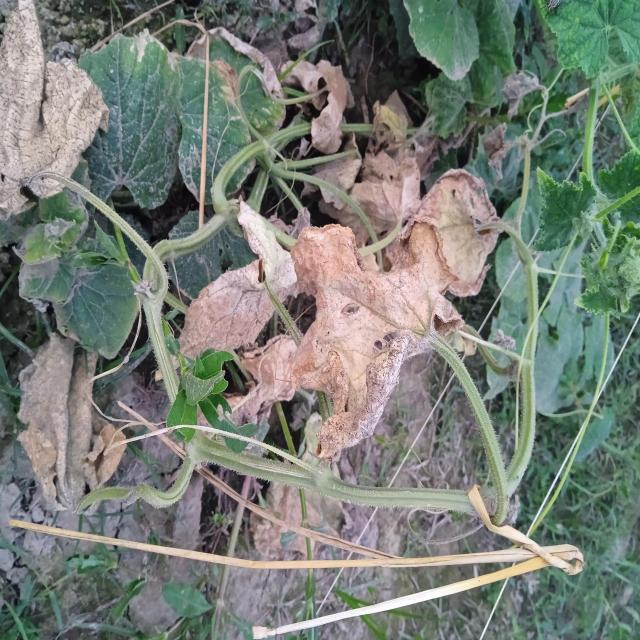cucumber_bacterial: (285, 179, 440, 460), (138, 186, 298, 415), (0, 2, 109, 240), (7, 326, 114, 554), (156, 33, 299, 201), (72, 36, 186, 207), (406, 143, 503, 314)
